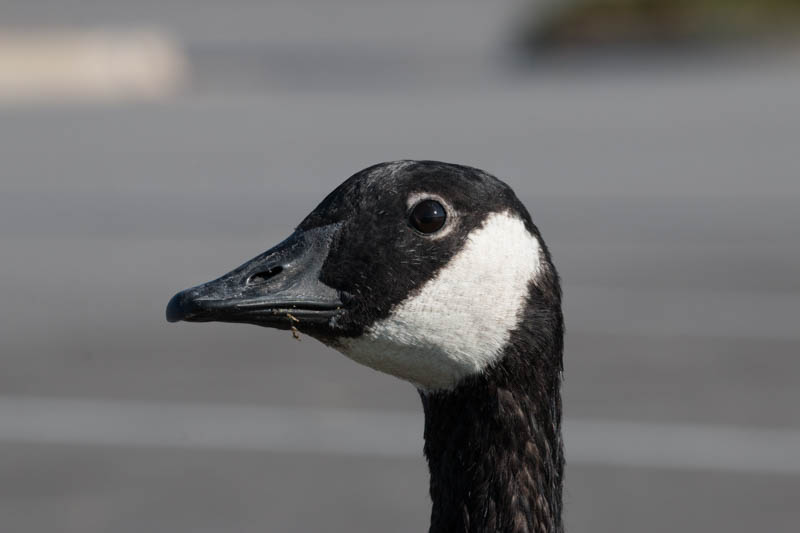goose-head: (165, 160, 565, 401)
